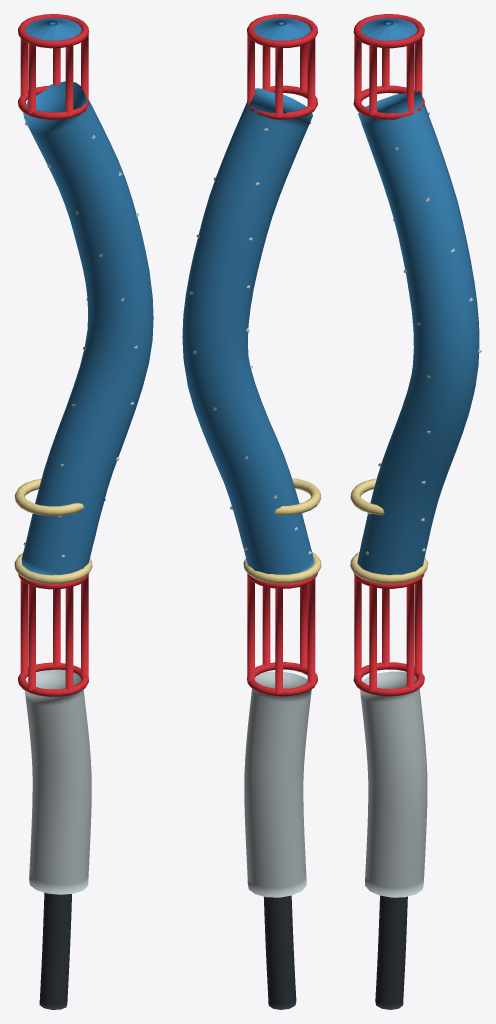
File: impella-55-v1.glb
3 views of the same model, side by side, from view 1: azimuth 30°, elevation 25°; view 2: azimuth 210°, elevation 25°; view 3: azimuth 330°, elevation 25° (orthographic).
Visible parts, largest first — view 1: Impella_55_ReinforcedCannula, Impella_55_MotorHousing, Impella_55_OutletCage, Impella_55_InletCage, Impella_55_ProximalShaft, Impella_55_DistalTip, Impella_55_AorticAnnulusMarker, Impella_55_FiberOpticSensor; view 2: Impella_55_ReinforcedCannula, Impella_55_MotorHousing, Impella_55_OutletCage, Impella_55_InletCage, Impella_55_ProximalShaft, Impella_55_DistalTip, Impella_55_FiberOpticSensor, Impella_55_AorticAnnulusMarker; view 3: Impella_55_ReinforcedCannula, Impella_55_MotorHousing, Impella_55_OutletCage, Impella_55_InletCage, Impella_55_ProximalShaft, Impella_55_DistalTip, Impella_55_FiberOpticSensor, Impella_55_AorticAnnulusMarker.
Boxes of the visible parts, x1,y1,x2,y2 form: Impella_55_ReinforcedCannula: (21,81,153,575); Impella_55_MotorHousing: (24,669,91,894); Impella_55_OutletCage: (18,573,88,696); Impella_55_InletCage: (18,14,88,119); Impella_55_ProximalShaft: (39,892,71,1009); Impella_55_DistalTip: (25,18,81,40); Impella_55_AorticAnnulusMarker: (14,479,84,515); Impella_55_FiberOpticSensor: (14,553,92,583); Impella_55_ReinforcedCannula: (182,88,313,574); Impella_55_MotorHousing: (244,671,311,897); Impella_55_OutletCage: (247,573,317,696); Impella_55_InletCage: (247,14,317,119); Impella_55_ProximalShaft: (264,895,296,1009); Impella_55_DistalTip: (254,18,310,40); Impella_55_FiberOpticSensor: (243,552,321,583); Impella_55_AorticAnnulusMarker: (274,478,321,515); Impella_55_ReinforcedCannula: (357,91,479,575); Impella_55_MotorHousing: (360,671,427,897); Impella_55_OutletCage: (353,573,424,696); Impella_55_InletCage: (353,14,424,119); Impella_55_ProximalShaft: (375,895,407,1009); Impella_55_DistalTip: (361,18,417,40); Impella_55_FiberOpticSensor: (350,552,428,583); Impella_55_AorticAnnulusMarker: (350,478,384,515).
Bounding box in the file's own units: 0.3655 × 2.74 × 0.2144.
